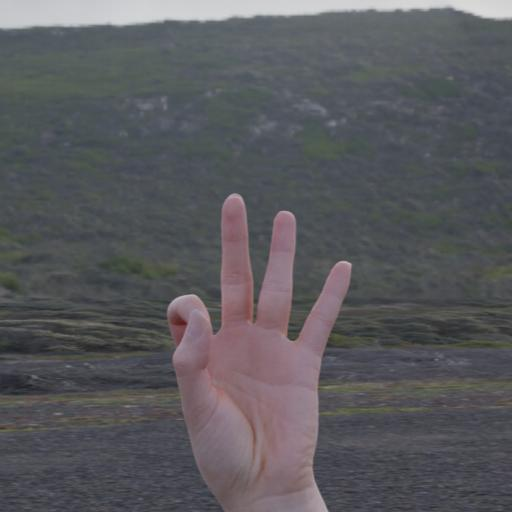F: (124, 177, 361, 512)
